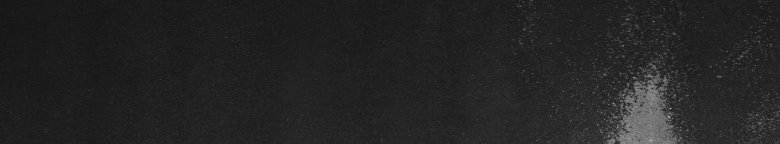kb: (608, 14, 668, 136)
